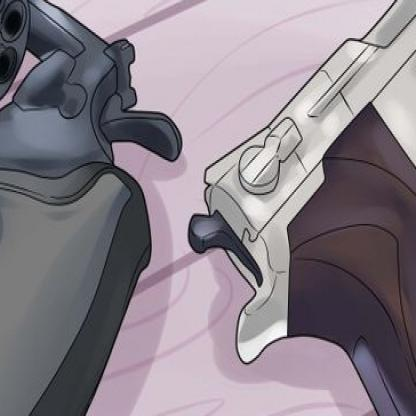gun: (188, 0, 415, 415), (0, 0, 200, 415)
